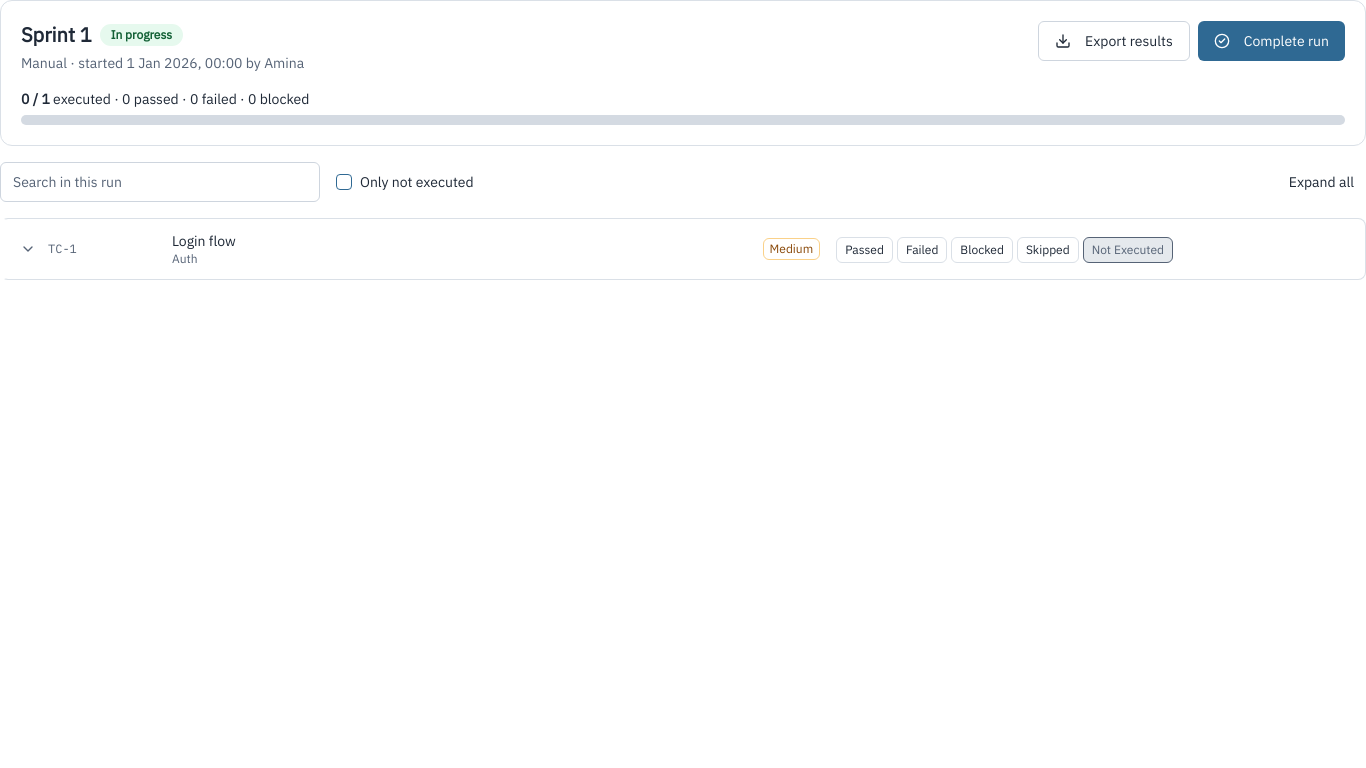
it: RunExecution › allows completing the run once every result is saved
What coordinates should you click on to do the following:
click the radio button labelled "Passed"
I would click on:
 (865, 249)
Its box is [836, 236, 893, 262].
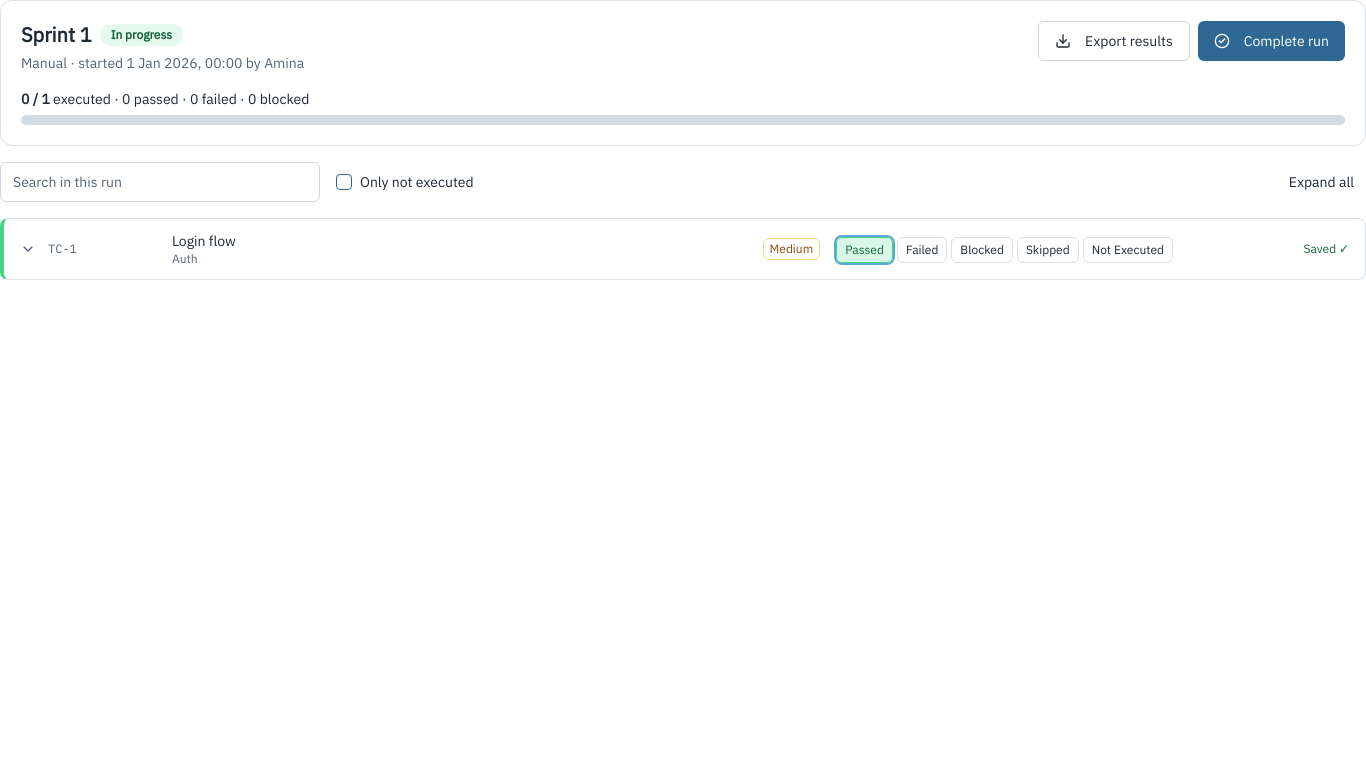
Expected: the text "Saved ✓" is shown, [1304, 241, 1349, 257]
What coordinates should you click on to do the following:
click the button "Complete run"
I would click on:
 (1271, 41)
Its box is [1198, 21, 1345, 61].
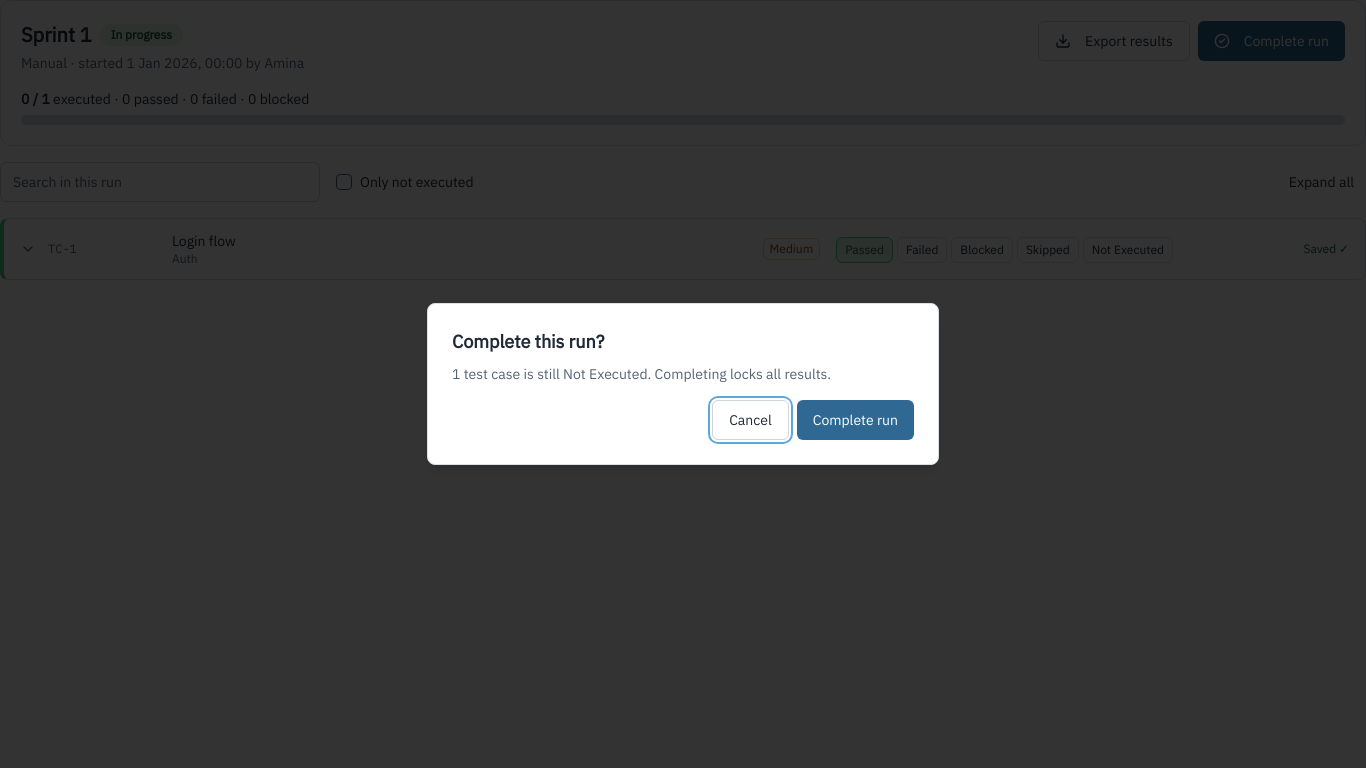
Expected: the dialog does not show "unsaved changes", [427, 303, 939, 465]
Expected: the button "Complete run" is enabled, [797, 400, 914, 440]
